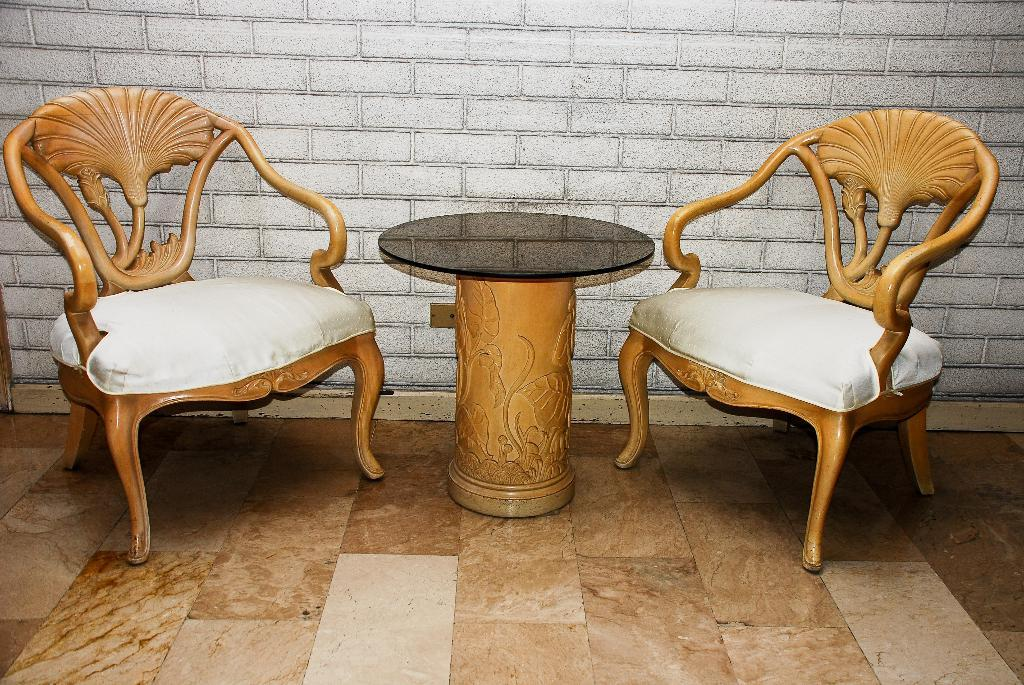Chair: (0, 85, 384, 565), (614, 106, 1000, 576)
